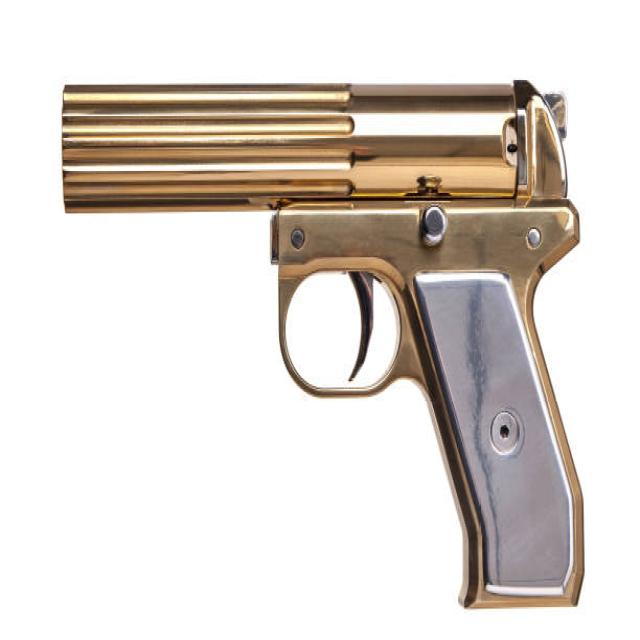pistol: (50, 78, 593, 615)
